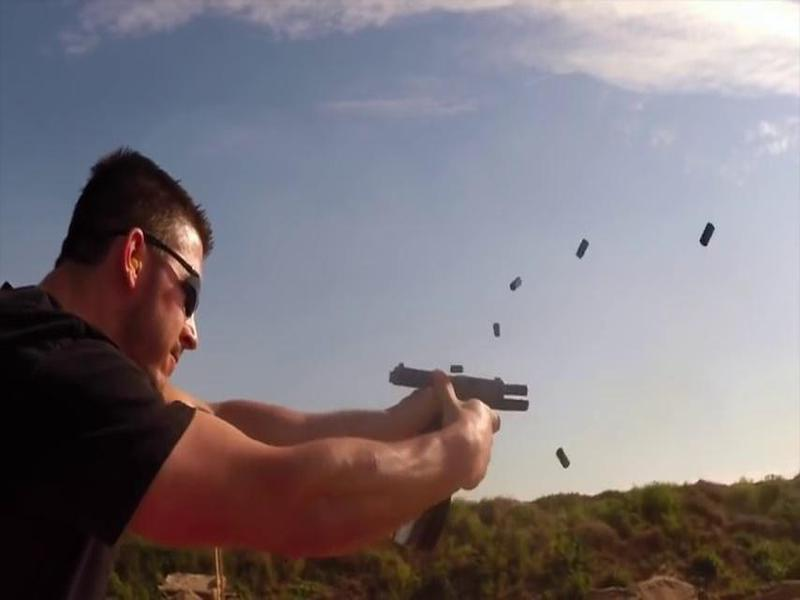Pistola: (388, 364, 546, 478)
